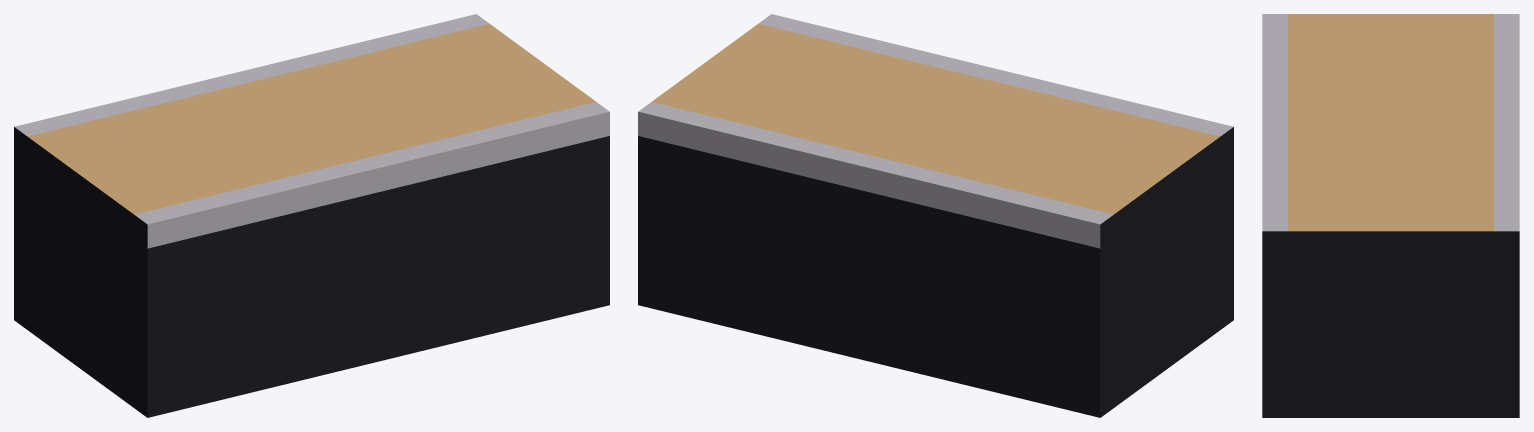
The model's file is ManPad_Half_4_TwoGrind.fbx.
3 renders of one model, left to right at view 1: azimuth 30°, elevation 25°; view 2: azimuth 150°, elevation 25°; view 3: azimuth 270°, elevation 25°, orthographic. The views are drawn at different scales.
Visible parts, largest first — view 1: ManPad_Half_4_TwoGrind; view 2: ManPad_Half_4_TwoGrind; view 3: ManPad_Half_4_TwoGrind.
Boxes of the visible parts, x1,y1,x2,y2 form: ManPad_Half_4_TwoGrind: (14, 14, 609, 417); ManPad_Half_4_TwoGrind: (638, 14, 1233, 417); ManPad_Half_4_TwoGrind: (1262, 14, 1519, 417).
Size of the model in its own units: 10 by 4 by 5.
